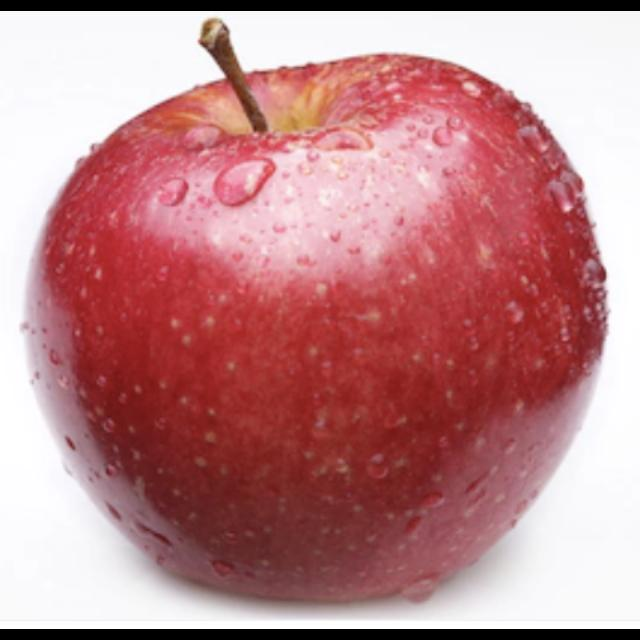Apel Segar: (19, 20, 611, 608)
